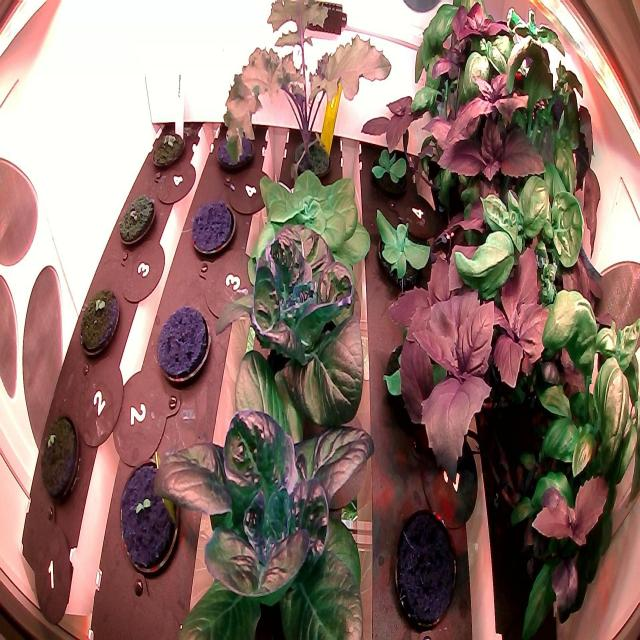germination: (112, 450, 185, 584), (36, 407, 88, 513), (75, 281, 124, 360), (146, 115, 191, 181)
pod: (386, 498, 462, 636), (154, 300, 212, 386), (188, 192, 236, 266), (110, 187, 161, 254)
young: (143, 328, 379, 640), (227, 215, 370, 440), (243, 161, 375, 316), (382, 332, 464, 443), (371, 196, 440, 297), (368, 138, 414, 208)
